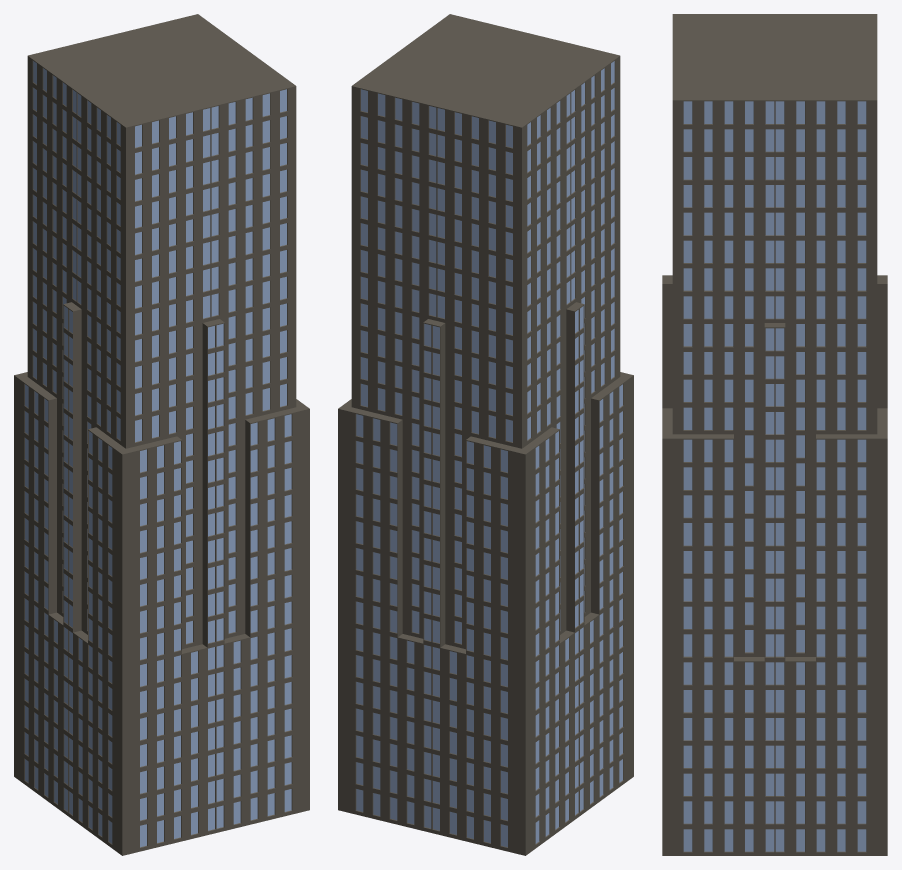
File: ImeubleIcolor.fbx
3 renders of one model, left to right at view 1: azimuth 30°, elevation 25°; view 2: azimuth 150°, elevation 25°; view 3: azimuth 270°, elevation 25°, orthographic. The views are drawn at different scales.
Parts seen in each view (by area): view 1: mure_1_3172; view 2: mure_1_3172; view 3: mure_1_3172.
Boxes of the visible parts, left/top/right/bottom form: mure_1_3172: left=14, top=14, right=309, bottom=855; mure_1_3172: left=338, top=14, right=633, bottom=855; mure_1_3172: left=662, top=14, right=887, bottom=855.
Bounding box in the file's own units: 22 × 81 × 22.
